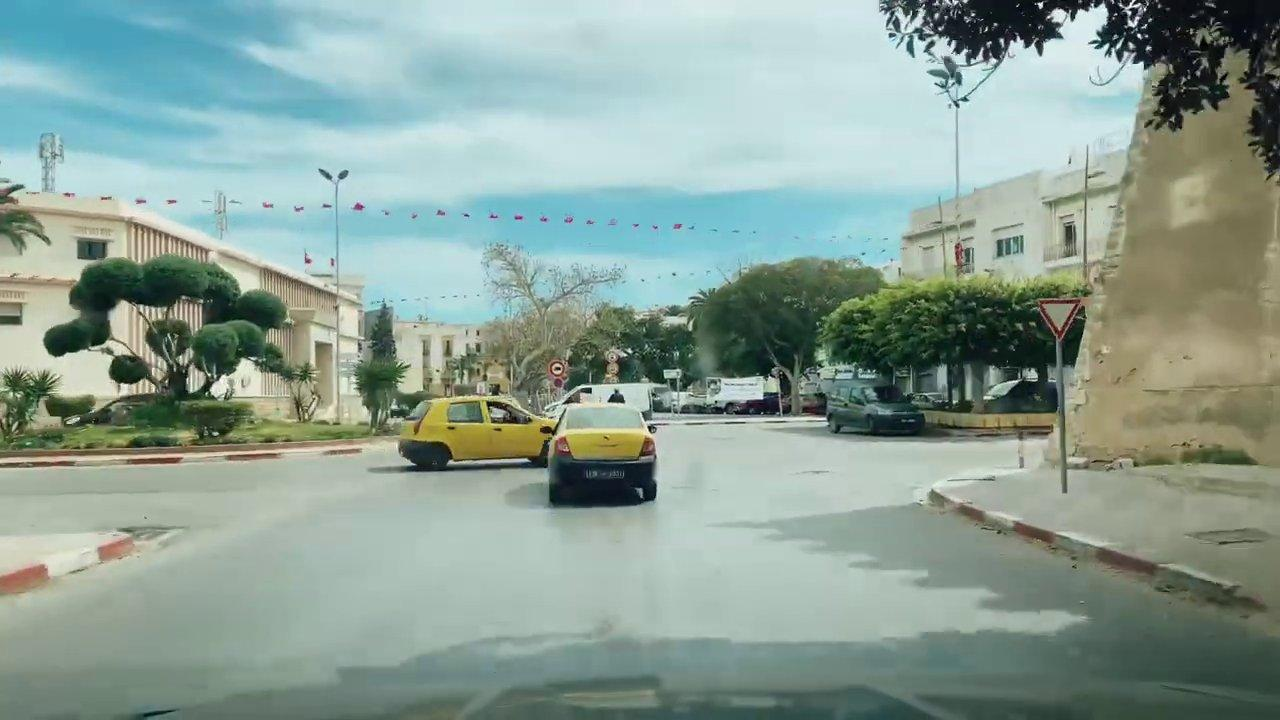give way: (1032, 295, 1087, 342)
